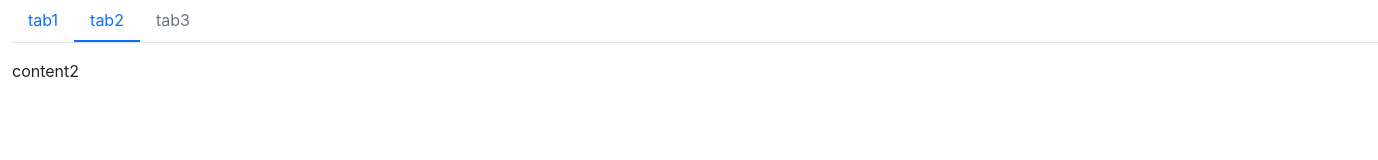
Scenario: Test Tabs and TabsItem › click tabItem should switch to content
The image size is (1378, 160).
Click the button "tab1": (43, 20) x1=28 y1=10 x2=58 y2=30
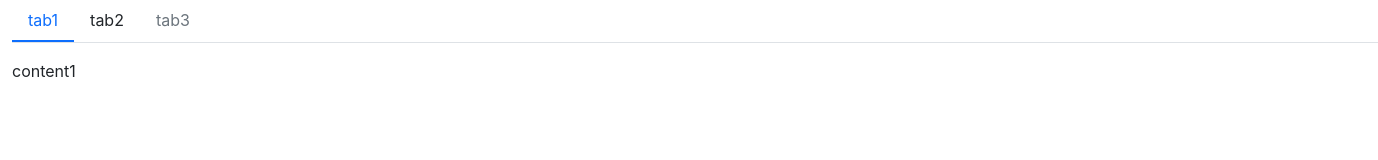
Check: the text "content1" is shown, box x1=12 y1=61 x2=76 y2=81
Check: the text "content2" is gone
